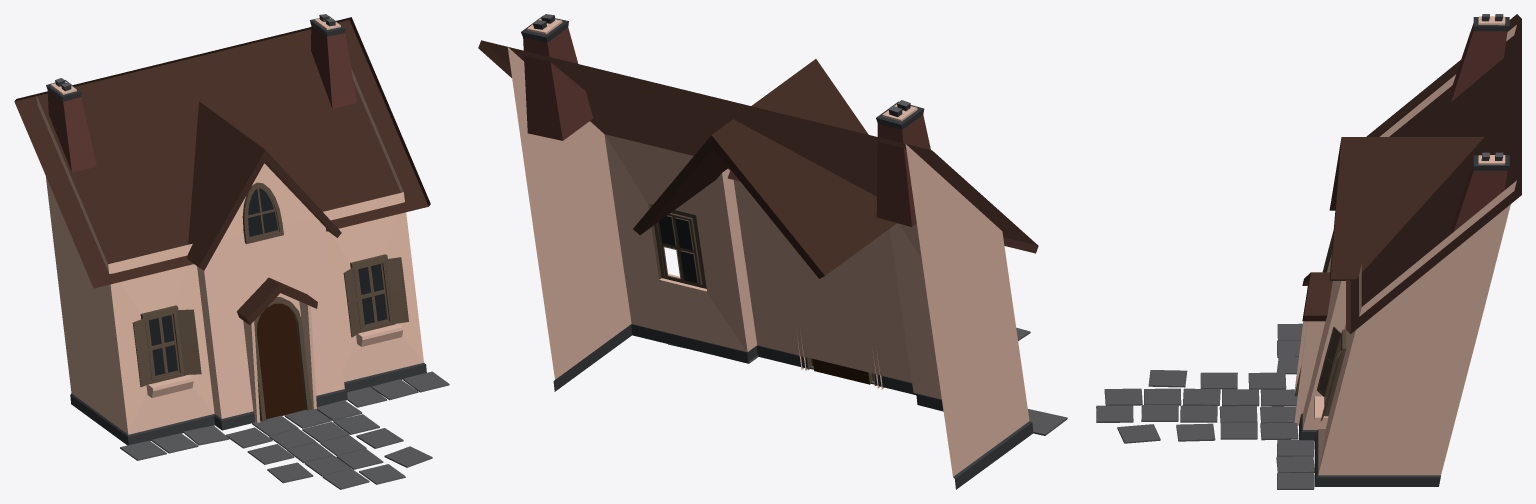
Rendered from SM_Cottage.fbx.
The picture shows the model from 3 angles, left to right: view 1: azimuth 30°, elevation 25°; view 2: azimuth 150°, elevation 25°; view 3: azimuth 270°, elevation 25°; orthographic projection. The views are drawn at different scales.
Visible parts, largest first — view 1: SM_Cottage; view 2: SM_Cottage; view 3: SM_Cottage.
Boxes of the visible parts, x1,y1,x2,y2 form: SM_Cottage: (14,14,449,489); SM_Cottage: (478,14,1067,489); SM_Cottage: (1096,14,1521,489).
Bounding box in the file's own units: 680 × 584 × 693.
